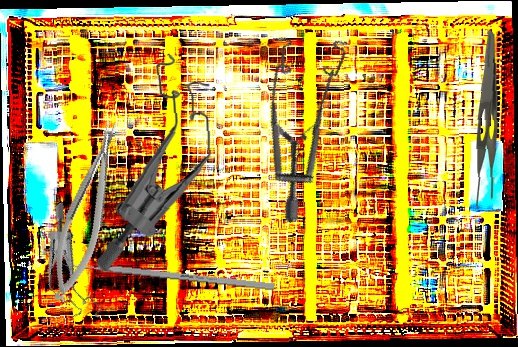Dressing Forceps: (467, 30, 502, 210)
Needle Holder: (38, 116, 137, 307)
Pusher: (55, 259, 275, 291)
Speculum: (222, 14, 402, 225), (82, 50, 224, 272), (9, 200, 135, 332)
